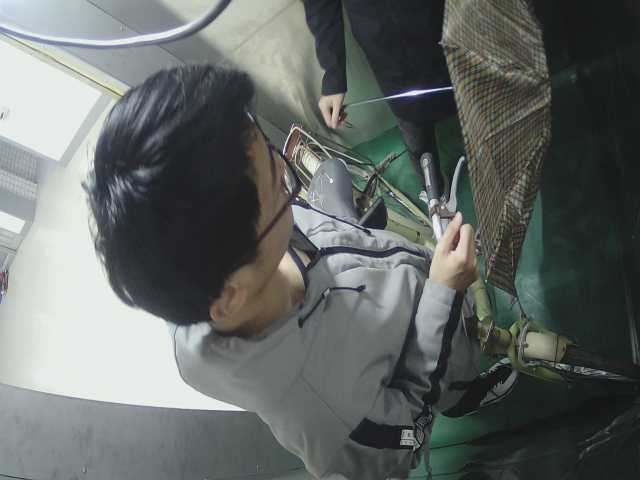bicycle: (276, 114, 628, 397)
person: (97, 96, 522, 460)
